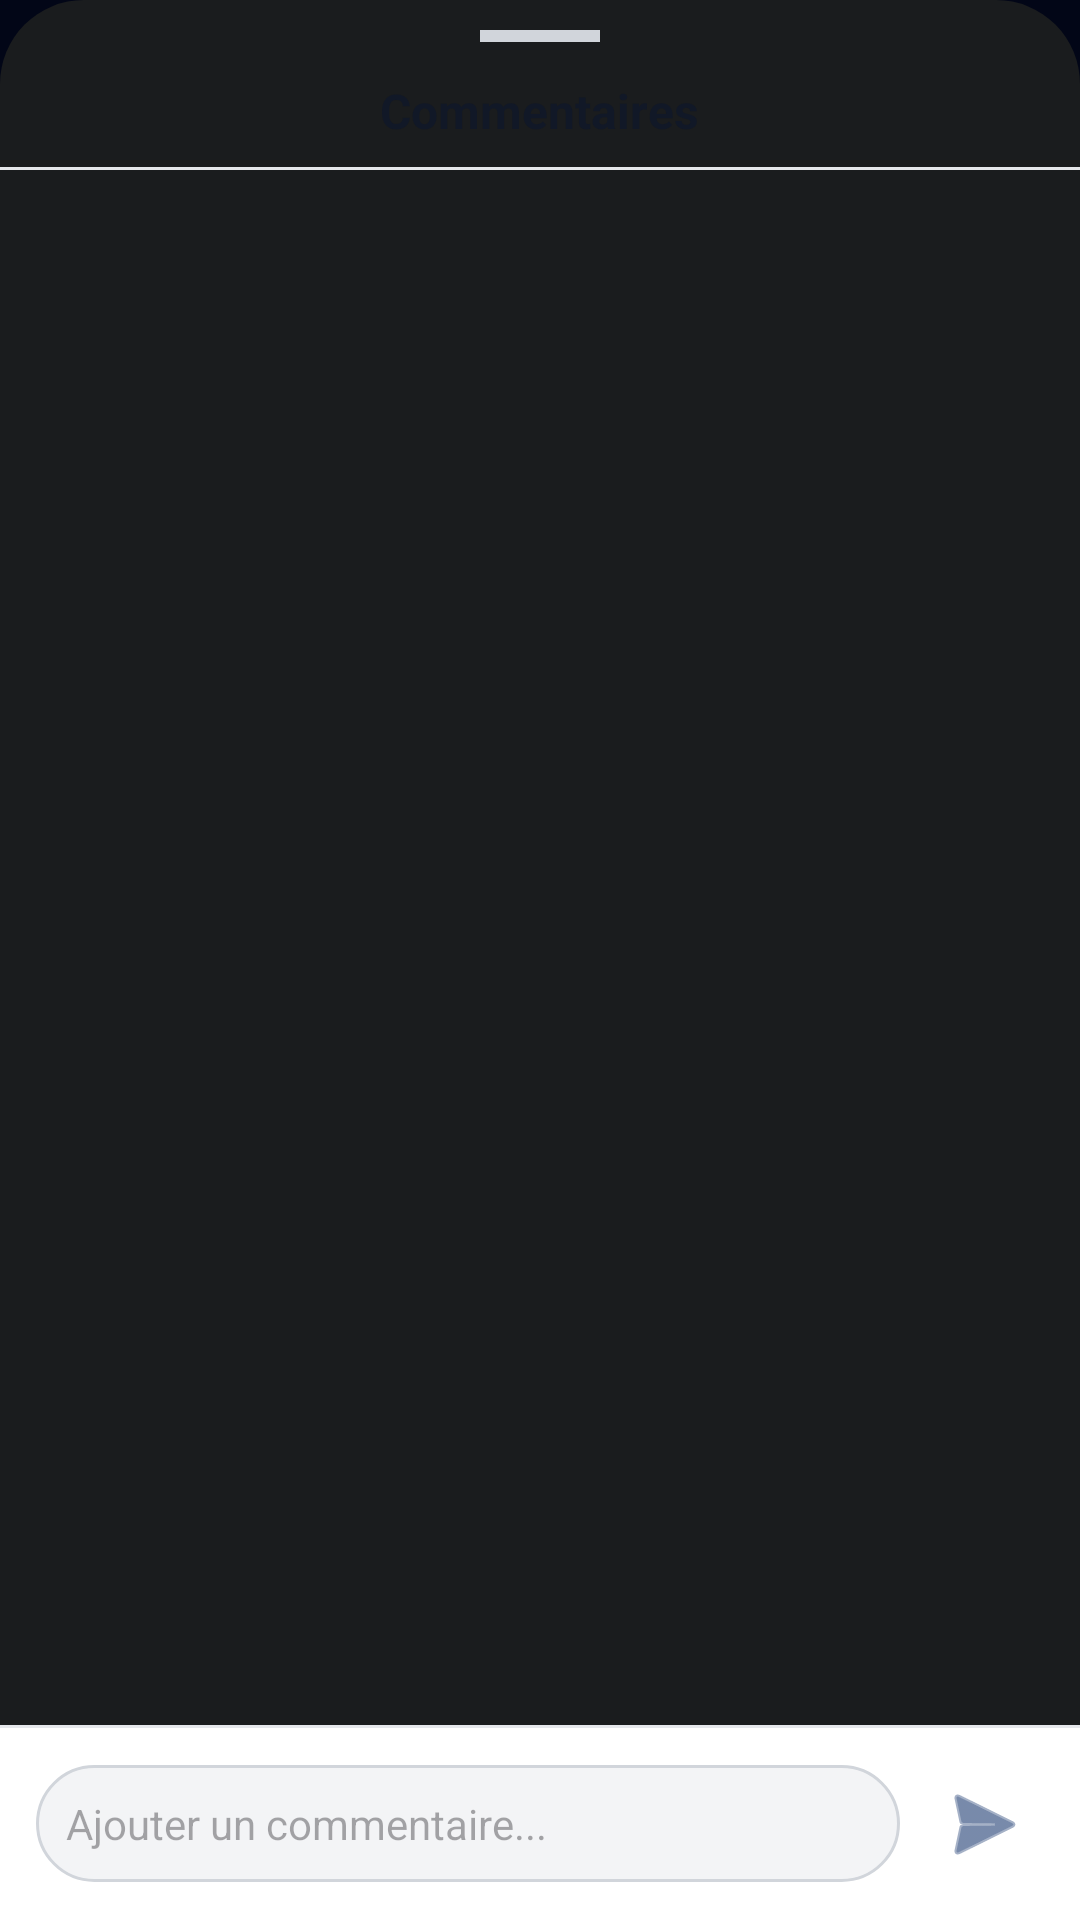

Locate icon controls on the screen. Image size 1080*1920, boxes as (x1, y1, x2, y2).
Envoyer: (954, 1794, 1016, 1855)
